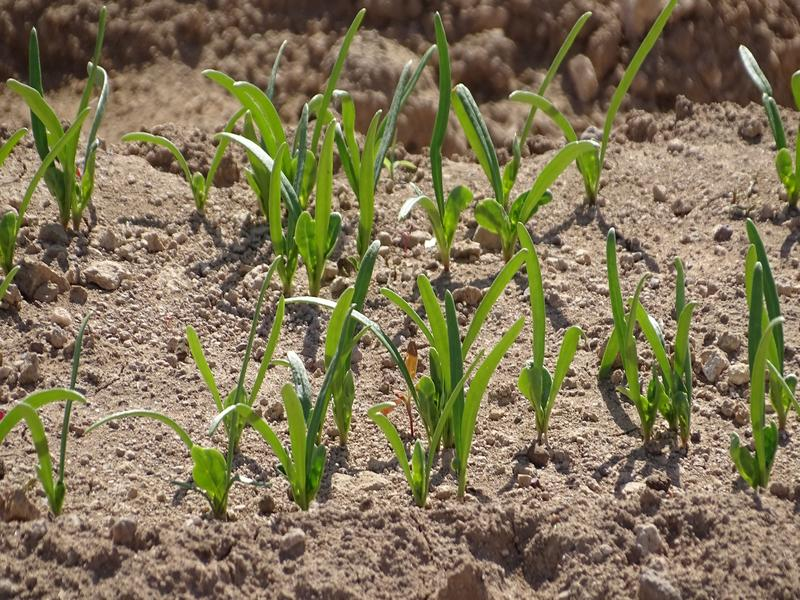Espinaca: (152, 270, 579, 484), (213, 18, 402, 257), (426, 33, 586, 241), (1, 4, 116, 253), (600, 227, 701, 434), (4, 311, 97, 503), (729, 228, 795, 477), (592, 3, 676, 172), (742, 46, 797, 200), (127, 124, 208, 201)
